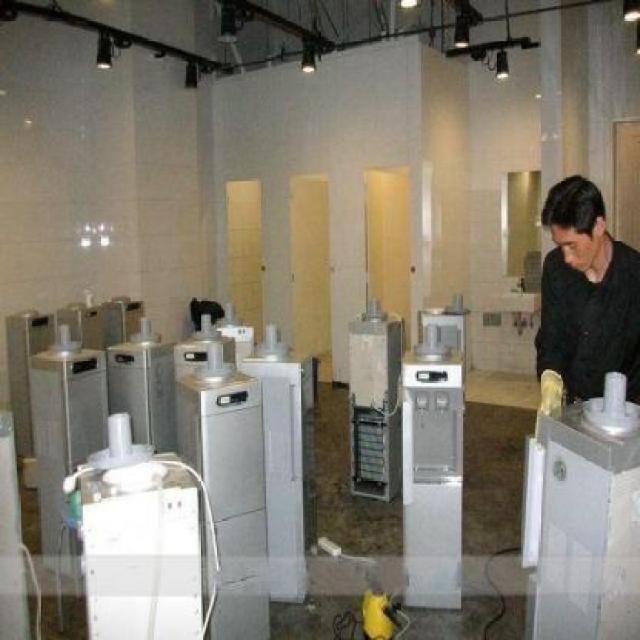cooler: (180, 340, 265, 640), (403, 320, 465, 610)
